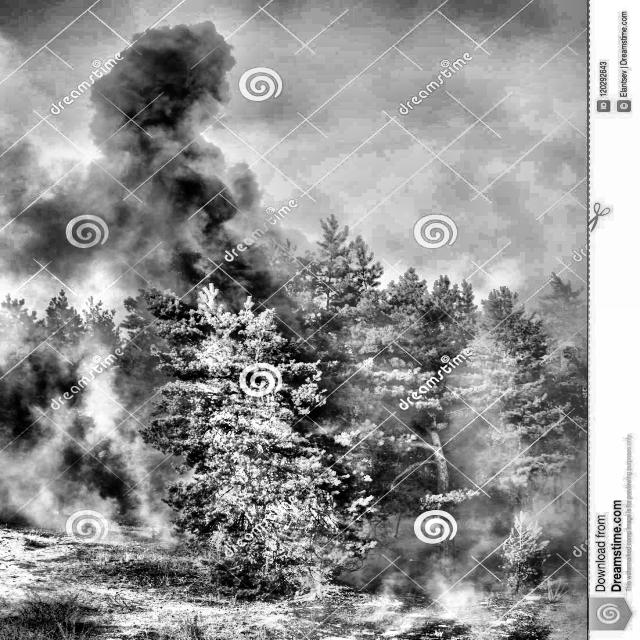fire: (136, 224, 463, 603)
